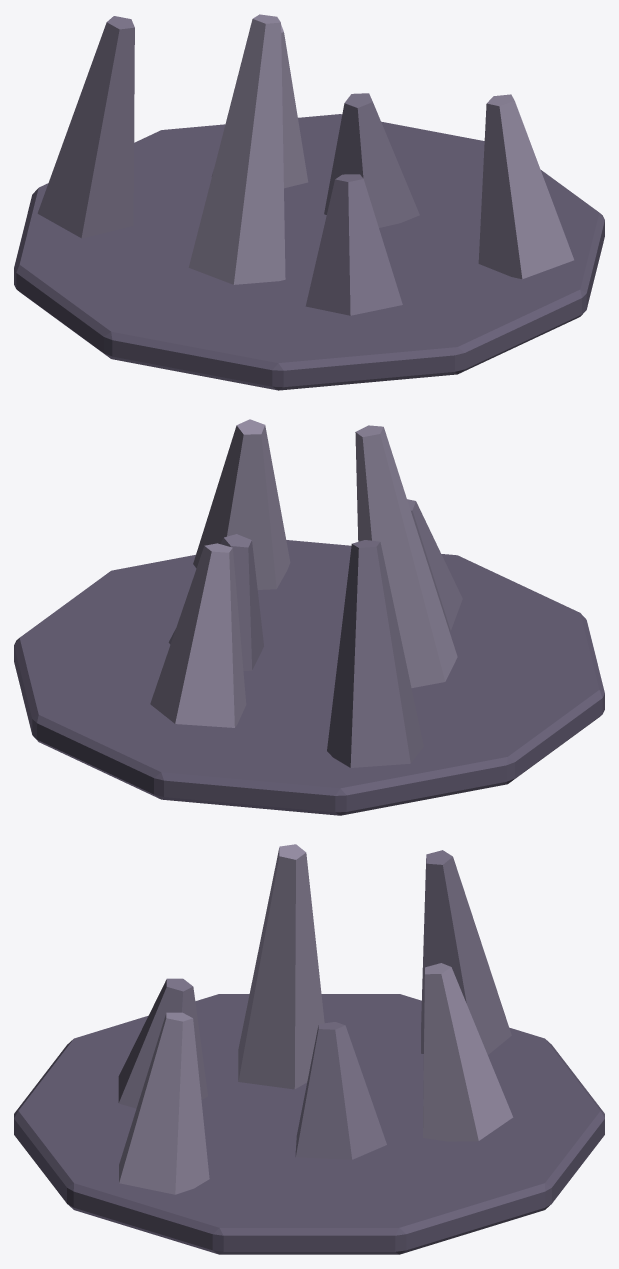
File: ember_obsidian_shards.glb
The picture shows the model from 3 angles, top to bottom: view 1: azimuth 30°, elevation 25°; view 2: azimuth 150°, elevation 25°; view 3: azimuth 270°, elevation 25°; orthographic projection.
Parts seen in each view (by area): view 1: ember_obsidian_shards.001; view 2: ember_obsidian_shards.001; view 3: ember_obsidian_shards.001.
Boxes of the visible parts, x1=… form: ember_obsidian_shards.001: x1=14, y1=14, x2=604, y2=390; ember_obsidian_shards.001: x1=14, y1=419, x2=604, y2=815; ember_obsidian_shards.001: x1=14, y1=844, x2=604, y2=1254.
Size of the model in its own units: 3.8 by 1.95 by 3.98.
